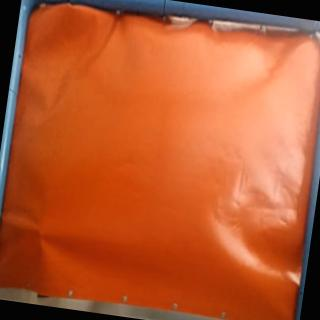Hit-hRxx: (35, 223, 50, 239)
